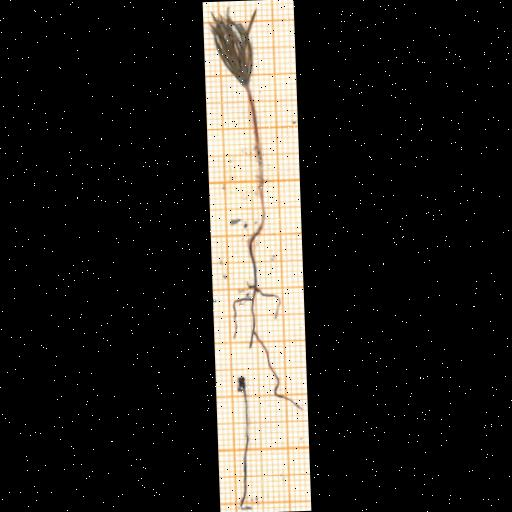flowerPinus: (208, 8, 256, 87)
rootPinus: (233, 215, 302, 409)
stemPinus: (244, 83, 265, 222)
